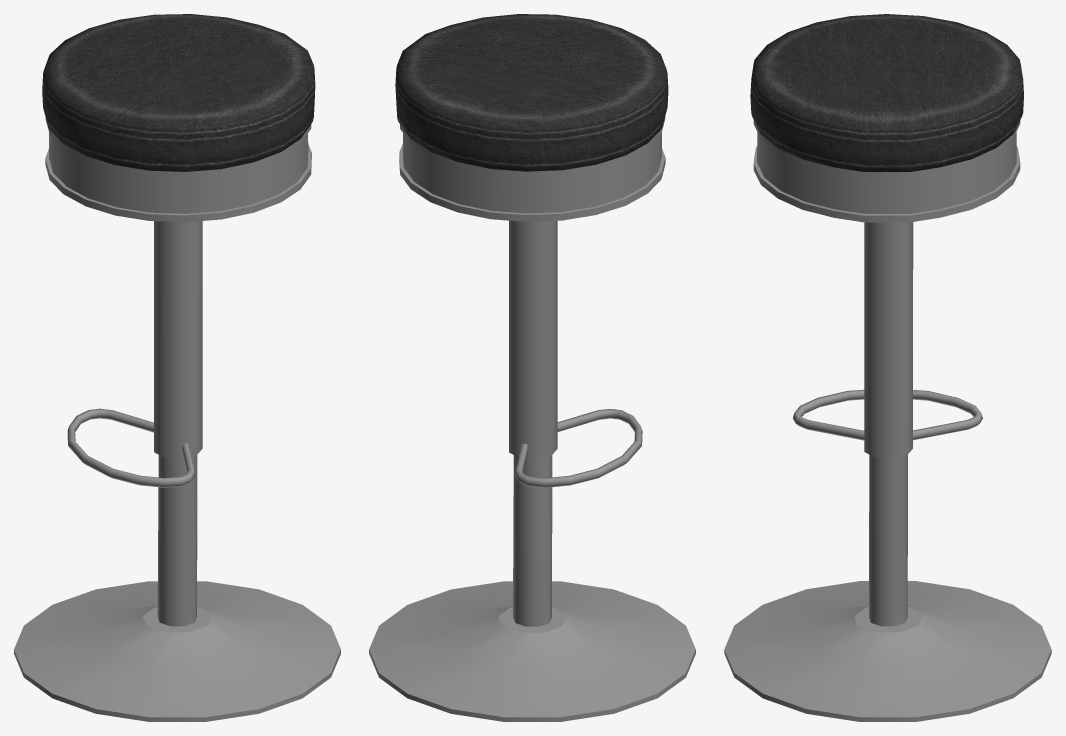
File: int_chair_a_001.FBX
3 renders of one model, left to right at view 1: azimuth 30°, elevation 25°; view 2: azimuth 150°, elevation 25°; view 3: azimuth 270°, elevation 25°, orthographic.
Parts seen in each view (by area): view 1: int_chair_a_001; view 2: int_chair_a_001; view 3: int_chair_a_001.
Boxes of the visible parts, x1,y1,x2,y2 form: int_chair_a_001: (14, 14, 340, 721); int_chair_a_001: (369, 14, 695, 721); int_chair_a_001: (724, 14, 1051, 721).
Size of the model in its own units: 42.68 by 86.19 by 43.34.
